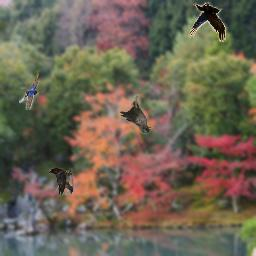Crow: (188, 2, 226, 42), (120, 94, 153, 134)
Swallow: (19, 70, 39, 110), (49, 168, 74, 195)
